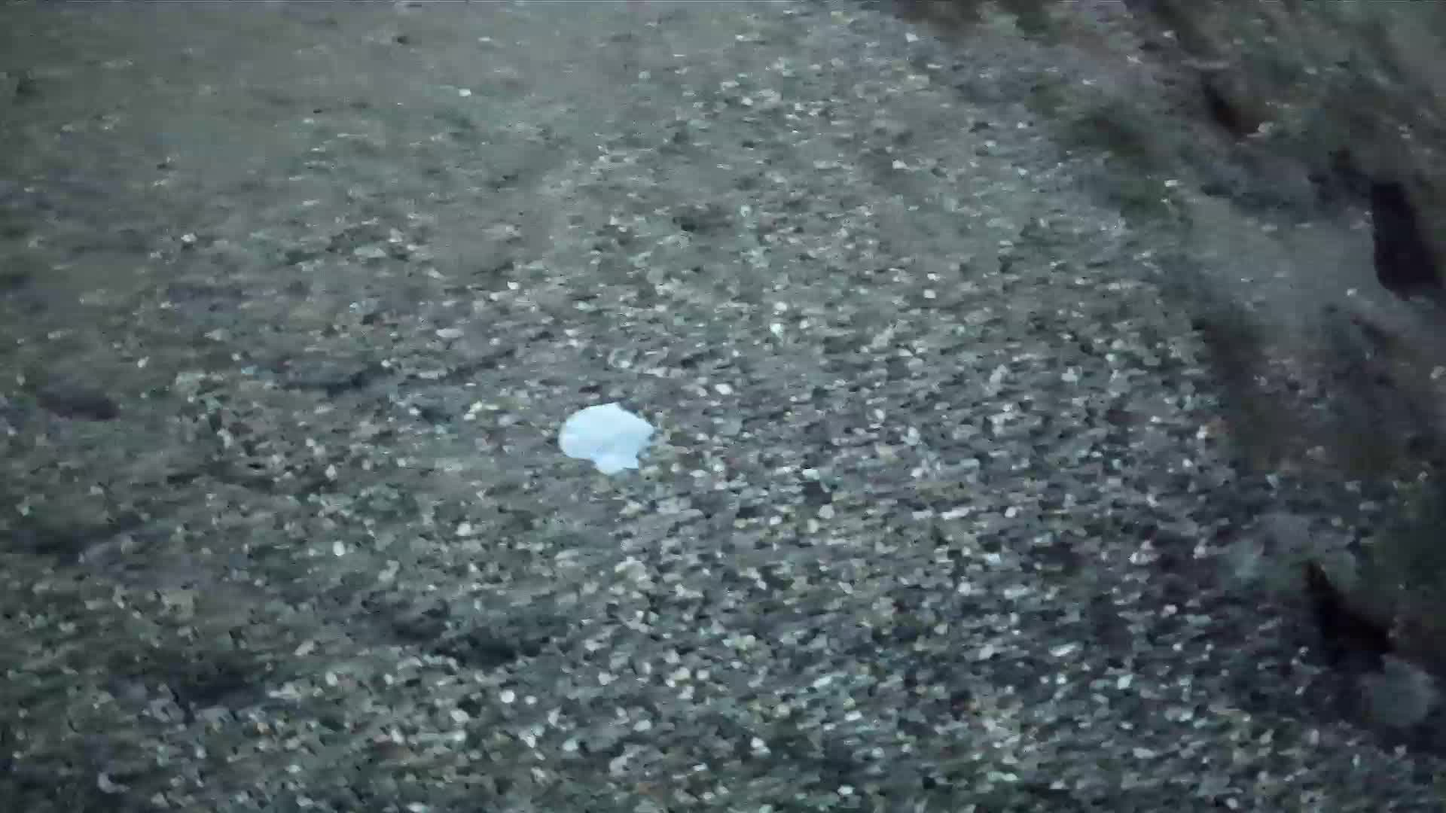Target: (553, 401, 657, 477)
